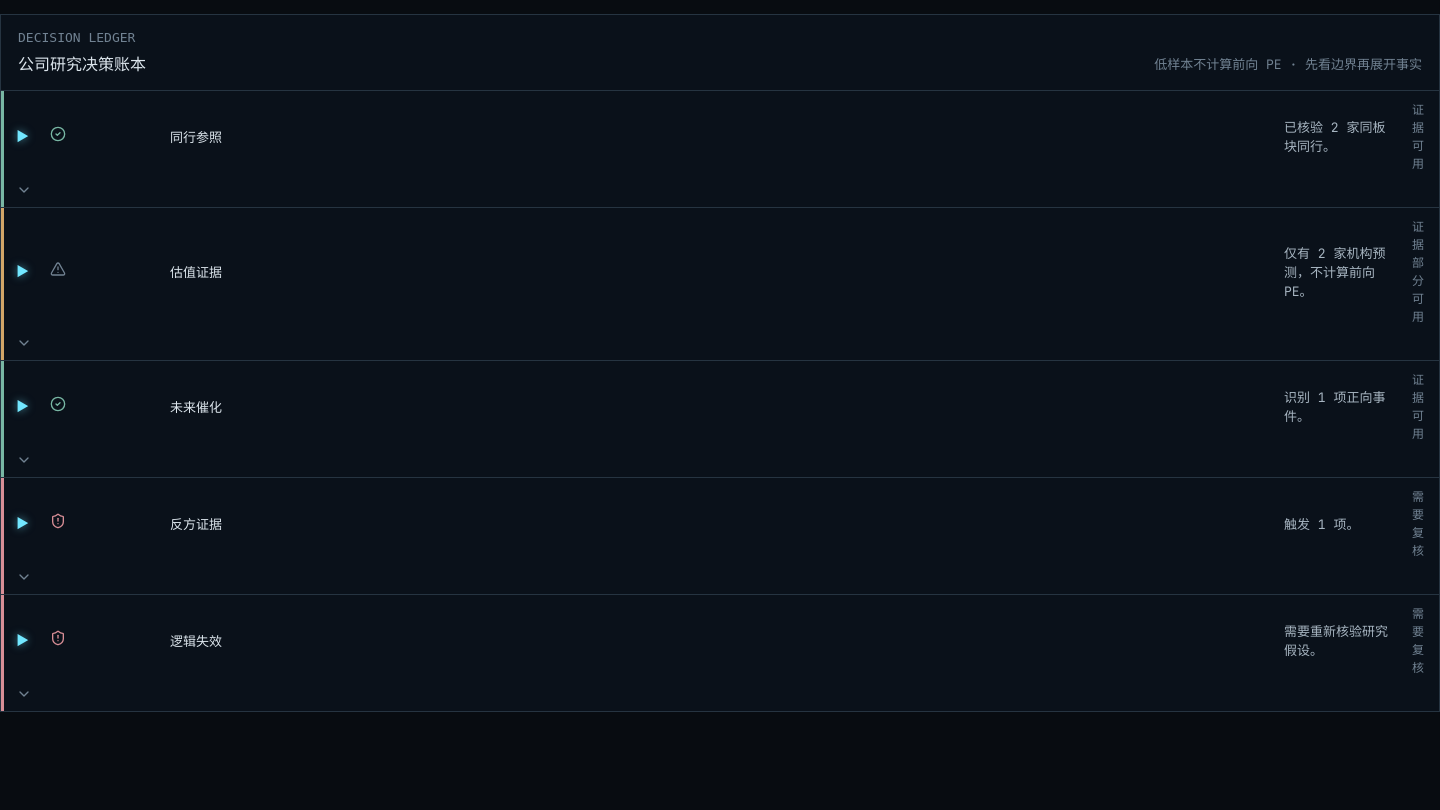
Test: ResearchDecisionLedger › renders five compact research decisions and expands their verified facts
The width and height of the screenshot is (1440, 810).
Expected: the element "公司研究决策账本" shows "低样本不计算前向 PE", [1154, 56, 1422, 73]
Click the text "估值证据": (196, 272) [170, 264, 222, 280]
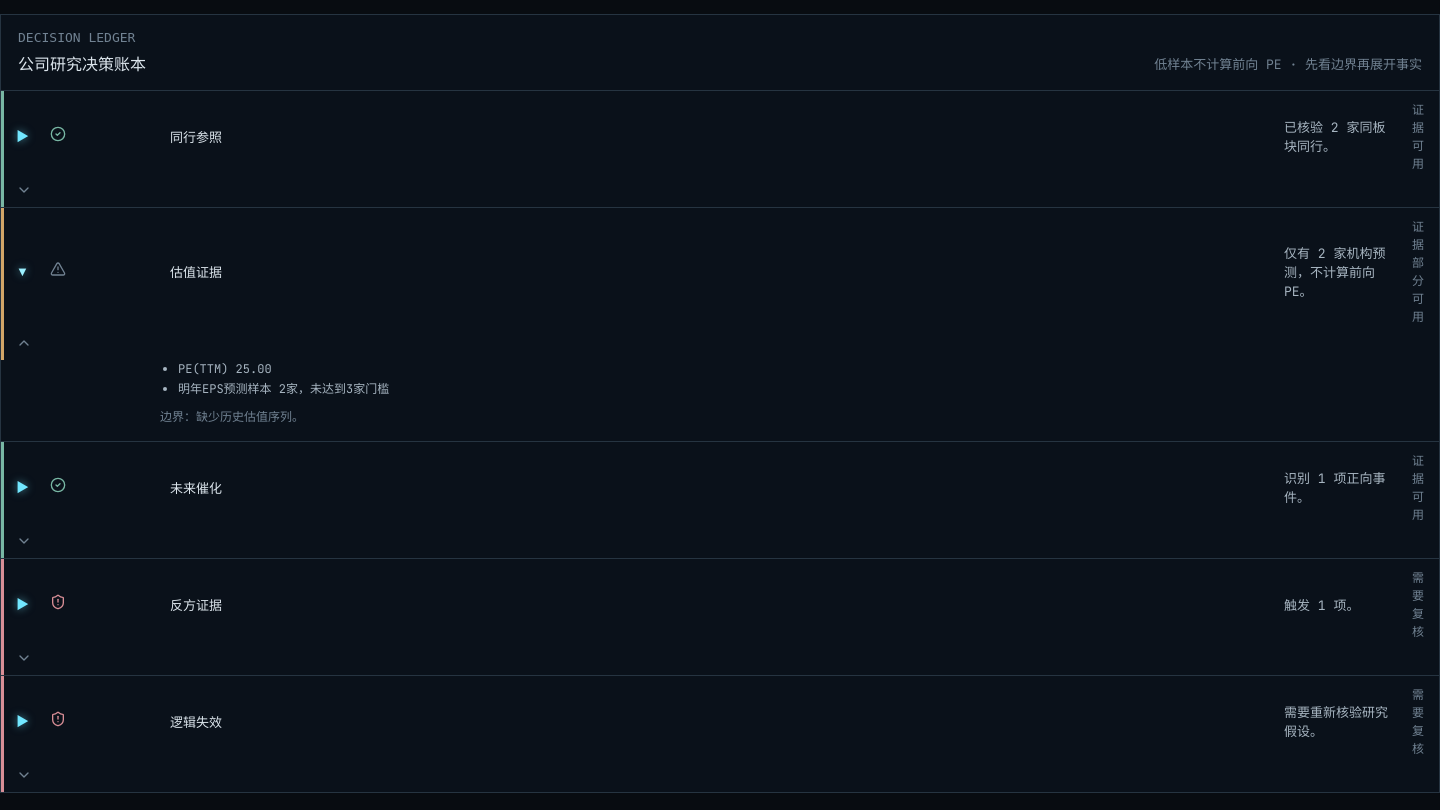
Expected: the element that starts with "估值证据" shows "明年EPS预测样本 2家，未达到3家门槛", [178, 381, 389, 397]
